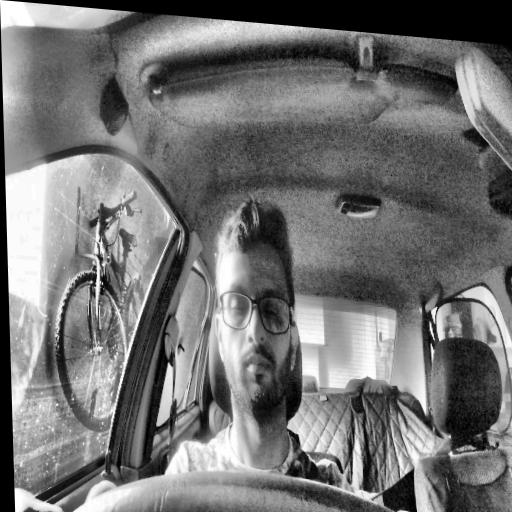drowsy: (209, 192, 301, 422)
